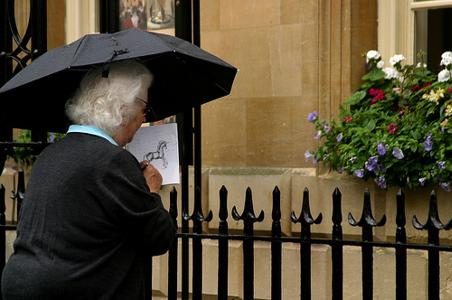person: (2, 63, 172, 300)
